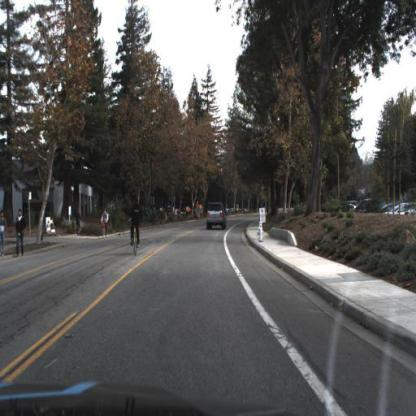biker: (128, 194, 143, 258), (100, 205, 112, 241), (100, 205, 112, 239), (175, 206, 183, 227)
car: (205, 202, 229, 231), (356, 197, 381, 215)
pedestrian: (17, 210, 26, 259), (1, 211, 7, 259), (74, 206, 82, 237), (75, 212, 82, 237)
